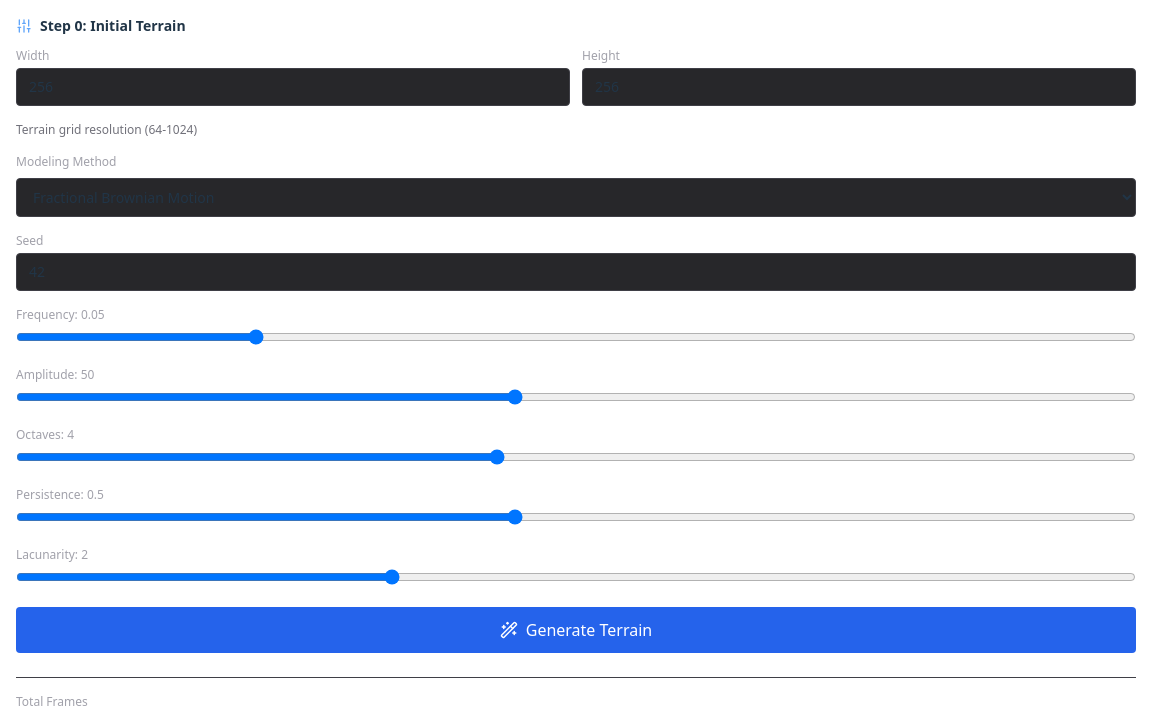
Test: PipelineBuilder › handles terrain generation error
# Click generate
Click the button "Generate Terrain" at (576, 630), box x1=16 y1=607 x2=1136 y2=653
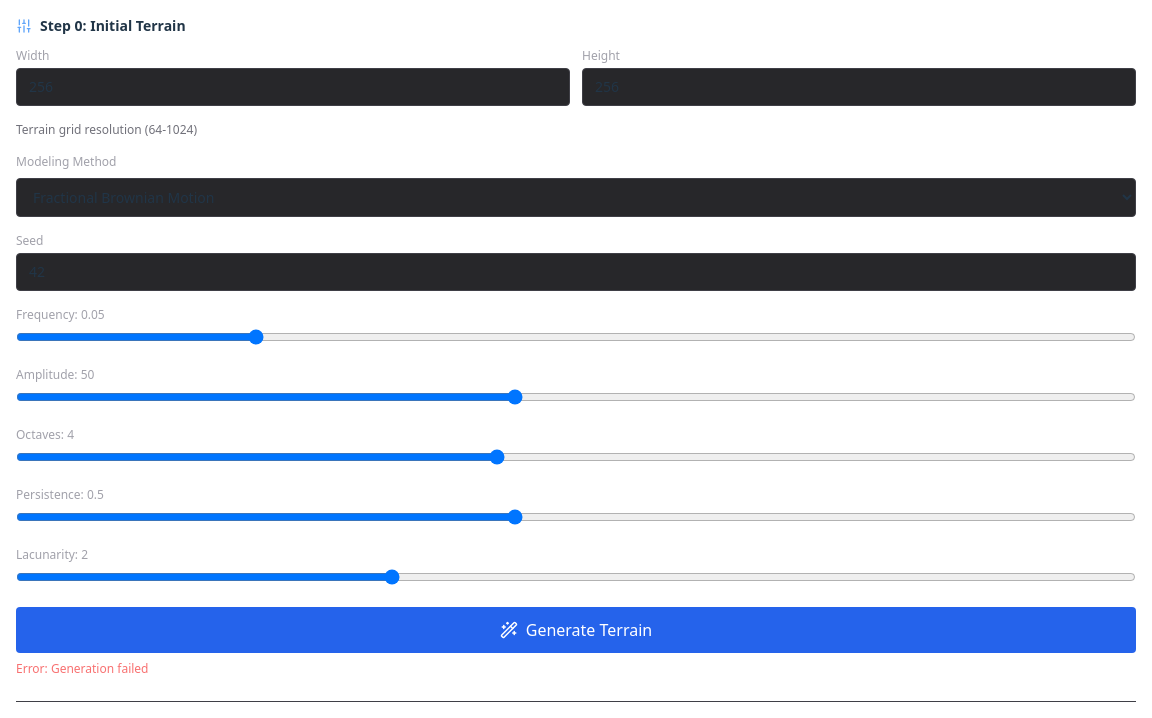
expect the text "Error: Generation failed" is shown: met, box x1=16 y1=660 x2=148 y2=677
